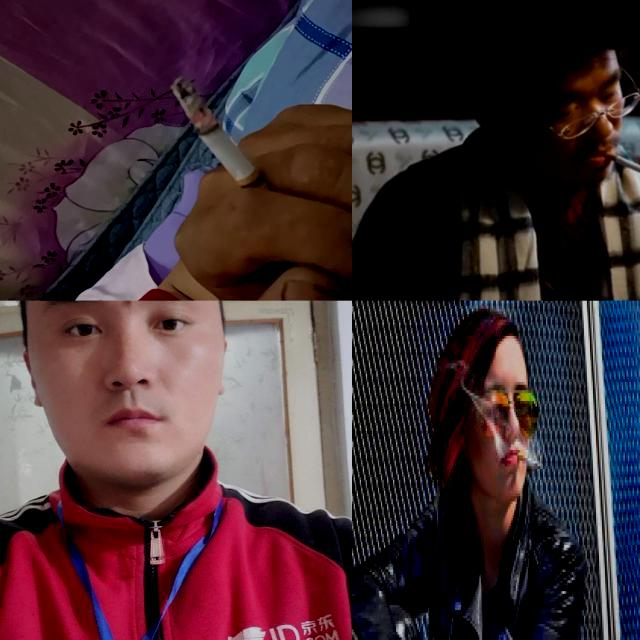cigarette: (172, 75, 274, 211), (602, 149, 640, 178), (518, 450, 544, 472)
